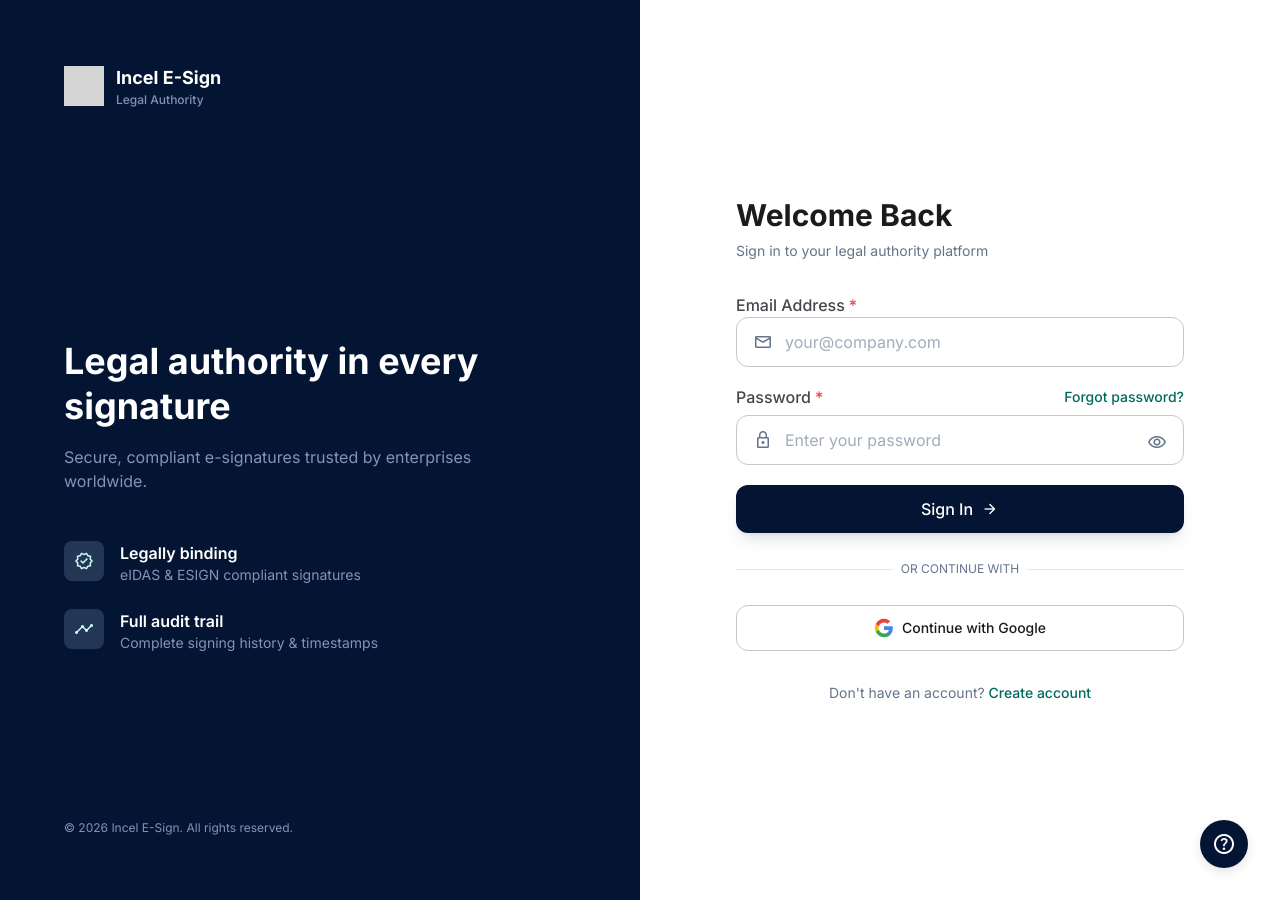
Test: LoginPage › shows validation errors for empty fields
This screenshot has width=1280, height=900.
Click the button "Sign In": (960, 509) 736,485 -> 1184,533
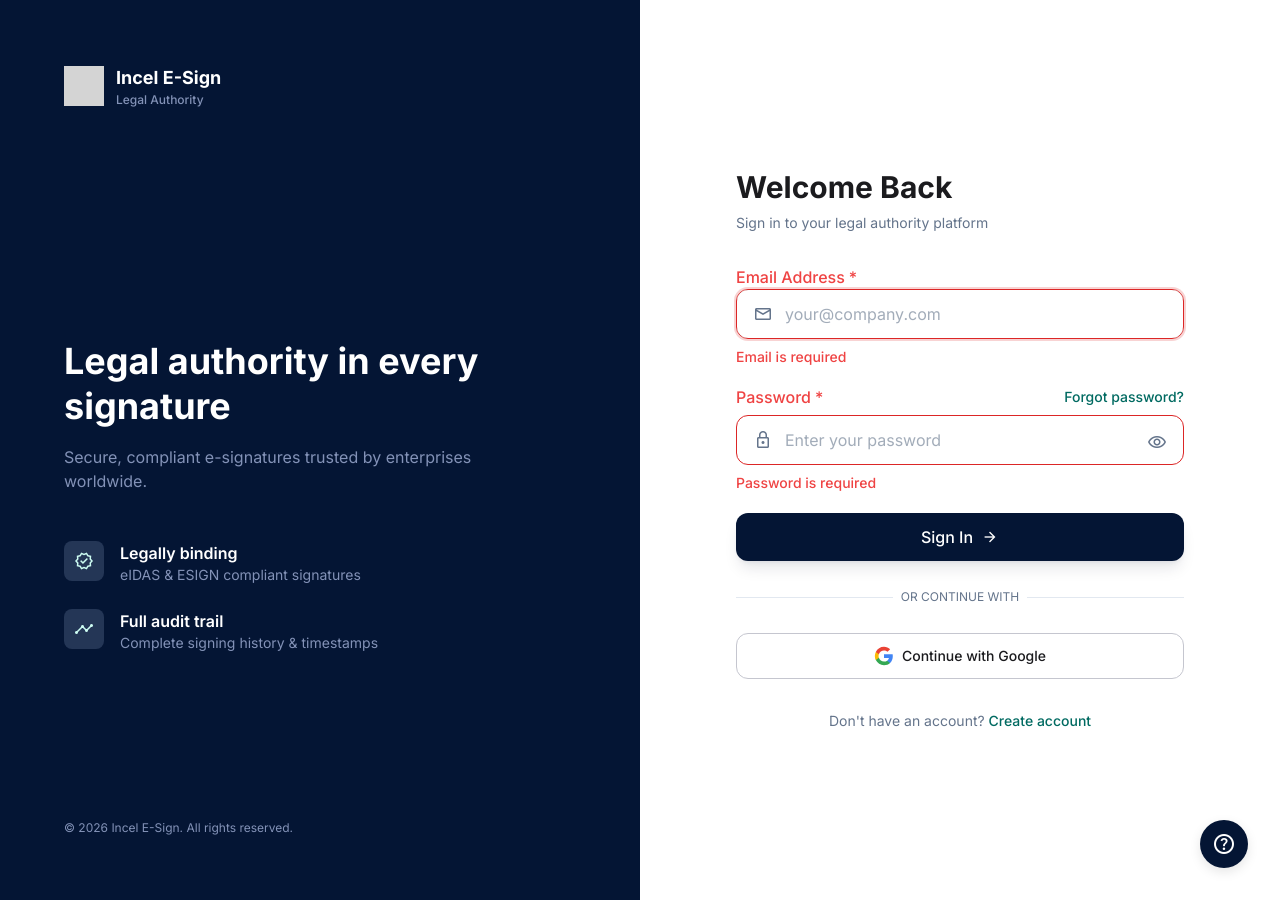
Now the text "Email is required" is shown, box 736,348 -> 846,365
Now the text "Password is required" is shown, box 736,474 -> 876,491
